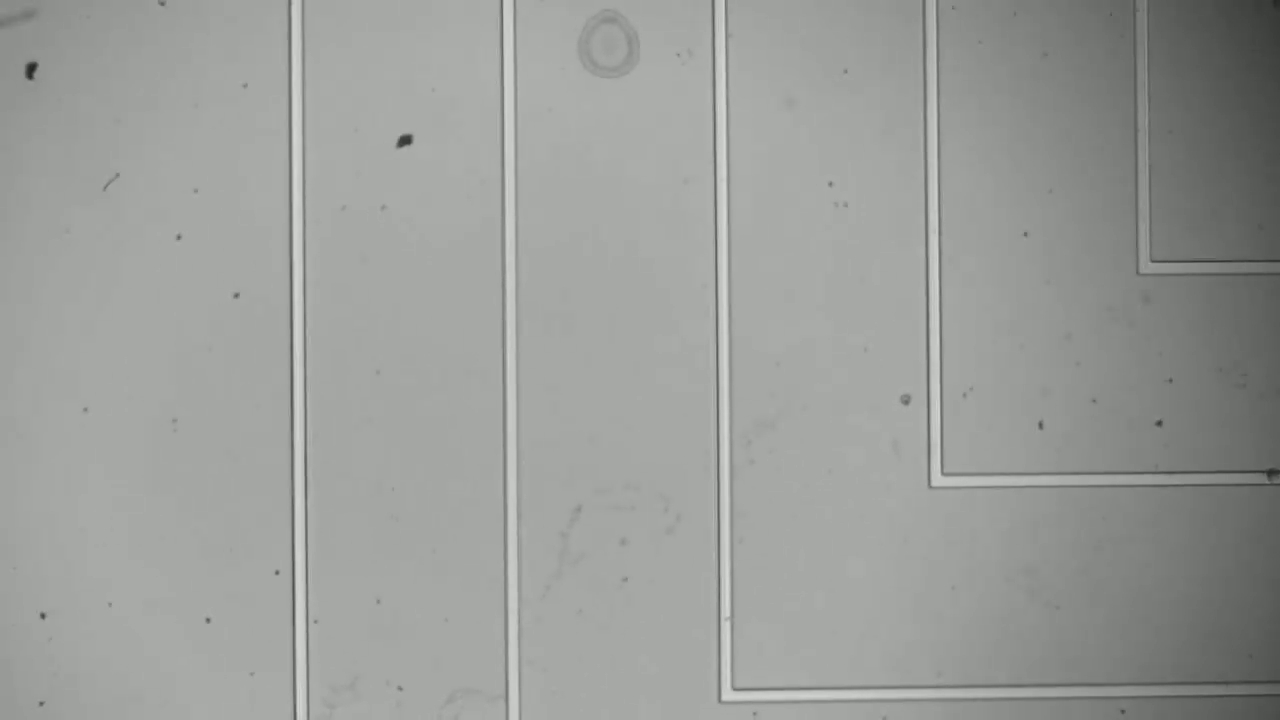stains_enbedded: (1265, 459, 1280, 493)
